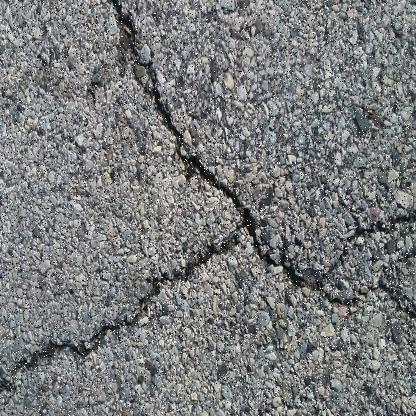Cracks: (99, 0, 416, 301), (0, 216, 245, 401)
